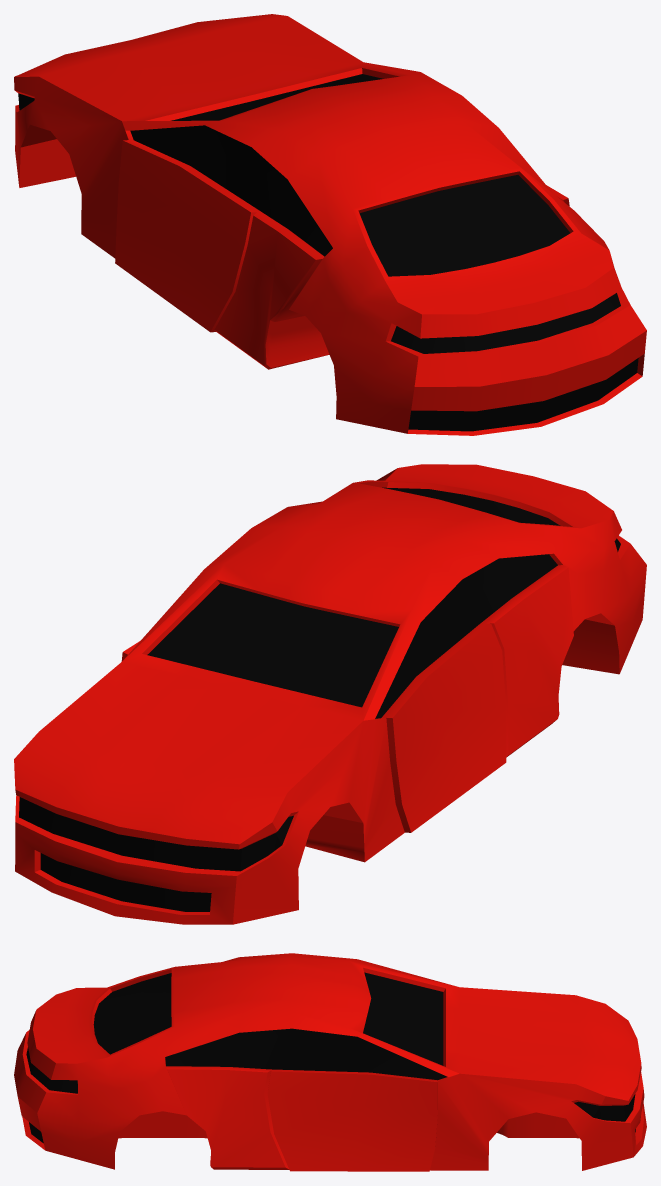
Rendered from car.glb.
The picture shows the model from 3 angles, top to bottom: view 1: azimuth 30°, elevation 25°; view 2: azimuth 150°, elevation 25°; view 3: azimuth 270°, elevation 25°; orthographic projection. The views are drawn at different scales.
Parts seen in each view (by area): view 1: Plane; view 2: Plane; view 3: Plane.
Boxes of the visible parts, x1,y1,x2,y2 form: Plane: (14,14,646,435); Plane: (14,464,646,924); Plane: (14,953,646,1171).
Size of the model in its own units: 1.27 by 0.8286 by 3.2.
